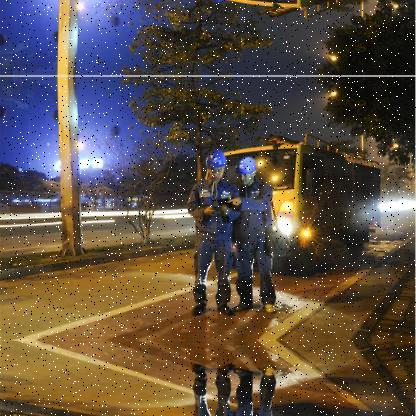helmet: (206, 146, 230, 178), (237, 155, 260, 182)
